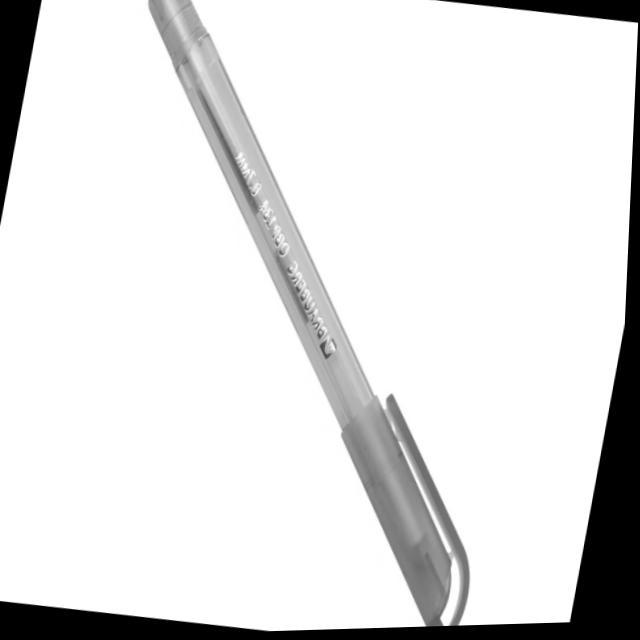pencil: (142, 0, 480, 629)
